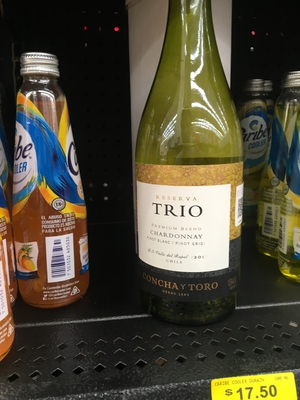trio chardonnay: (131, 18, 260, 336)
